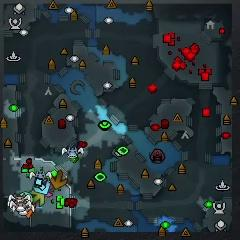p2: (19, 192, 33, 203)
p5: (25, 210, 33, 220)
x2: (30, 191, 46, 209)
x3: (34, 178, 52, 194)
x5: (50, 170, 67, 188)
